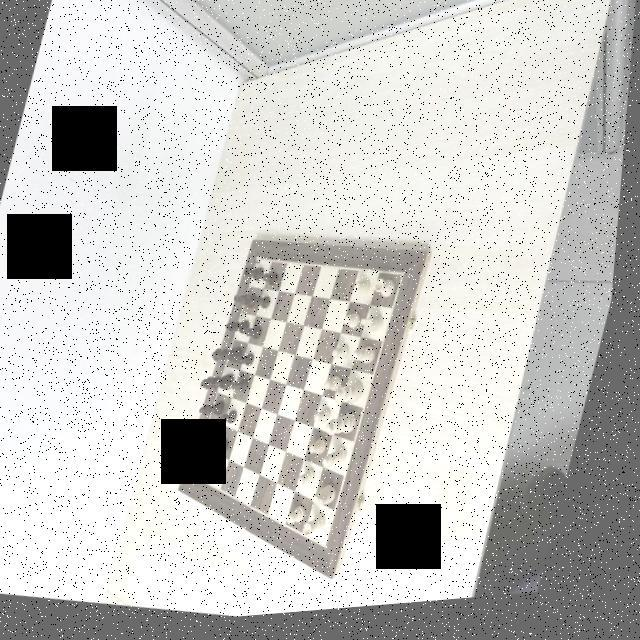chess-table-corners: (402, 276, 410, 286), (256, 260, 266, 268), (196, 475, 204, 485), (330, 548, 338, 556)
